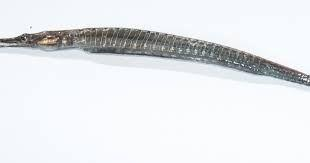Long-Snouted Pipefish: (1, 17, 310, 88)
